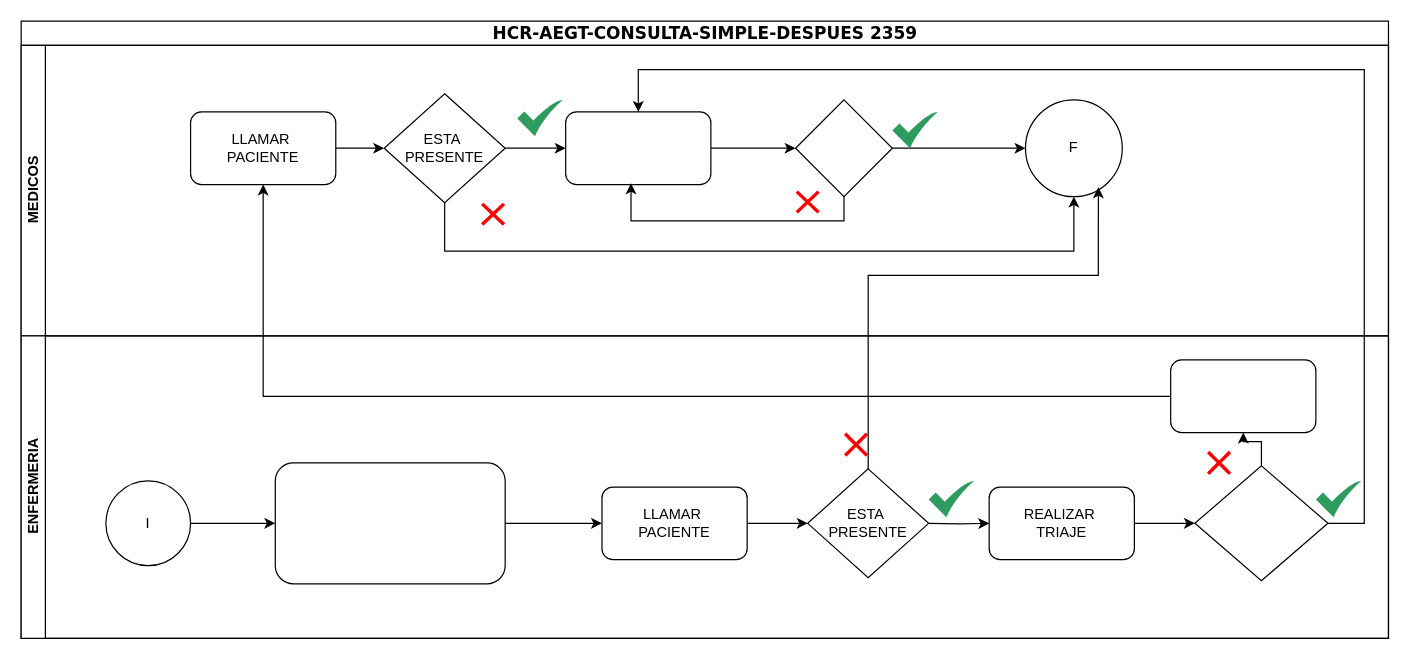
The diagram is 1410 pixels wide and 659 high, and some of its shapes have lost their labels. The shapes that lost their labels are listed below. From the top down, each one's centre as x and y in pixels, then its label:
At [637,148]: "ATENDER PACIENTE".
At [843,148]: "FINALIZA ATENCION".
At [1242,396]: "ESPERAR ATENCION MEDICA".
At [389,523]: "RECEPCIONAR PACIENTES ANOTAR MOTIVO DE CONSULTA REFERIDO POR EL PACIENTE".
At [1261,523]: "Shocroom o boxes".
